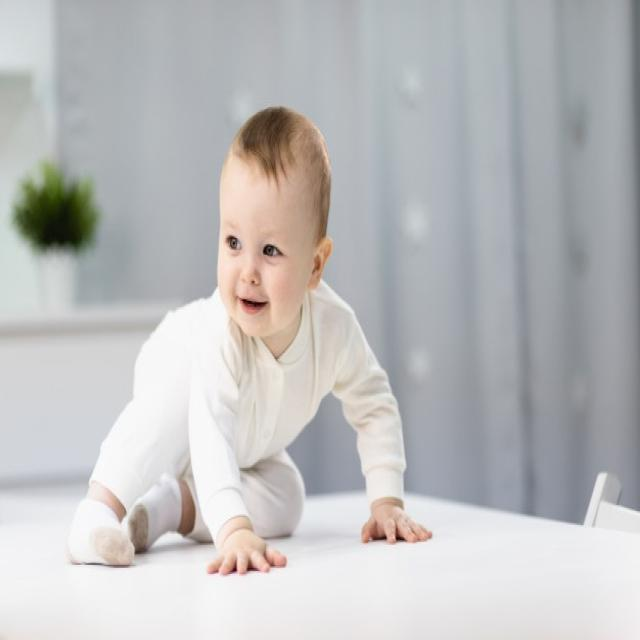non-dog: (58, 104, 439, 577)
